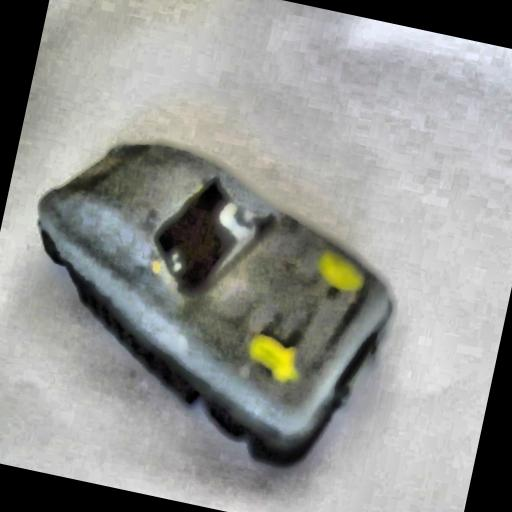normal_car: (0, 107, 423, 486)
